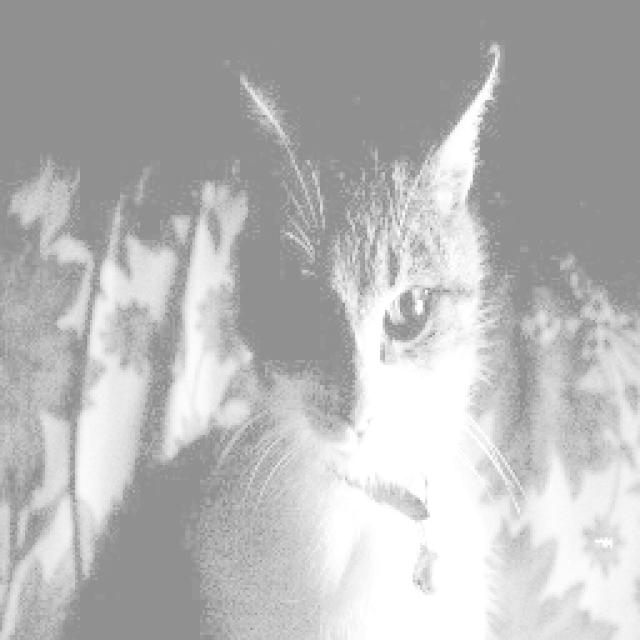cat: (74, 23, 548, 640)
